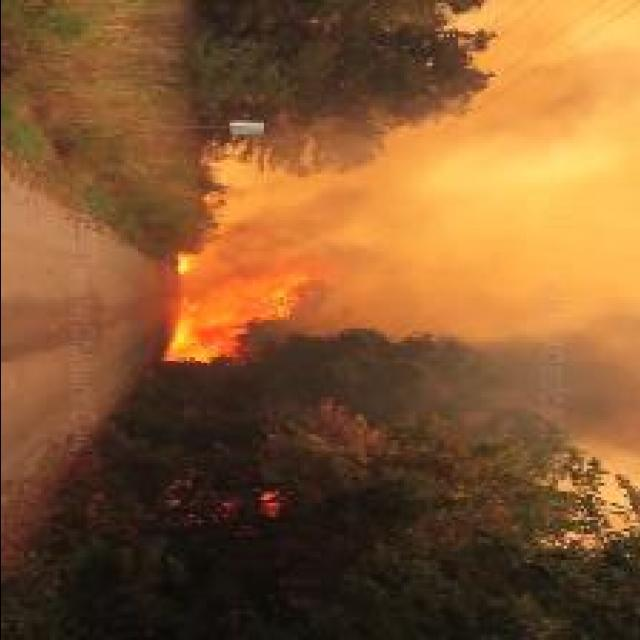Fire: (160, 239, 326, 367)
